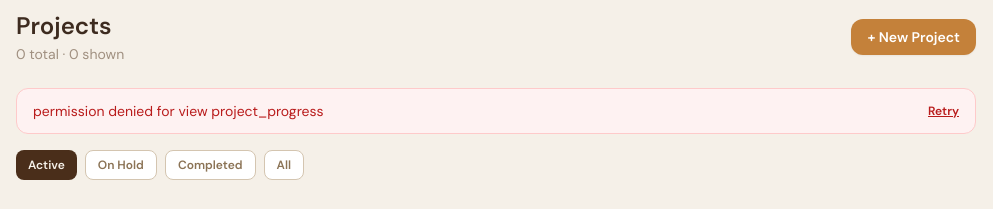
Projects 载入失败 › Retry 重新读取,成功之后横幅收掉、专案列出来
Click the button "Retry" at {"x": 944, "y": 111}, box [928,103,959,119]
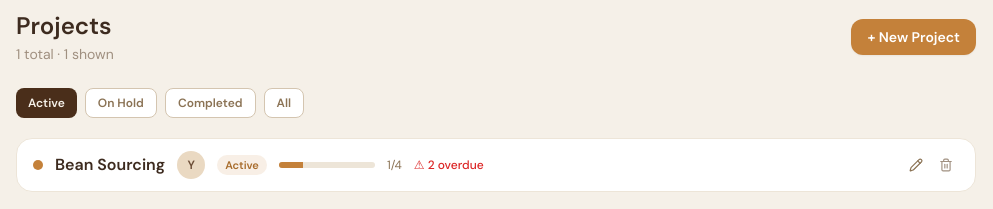
Expected: the text "Bean Sourcing" is shown, [55,153,165,177]
Expected: the element with test id "projects-error" is gone
